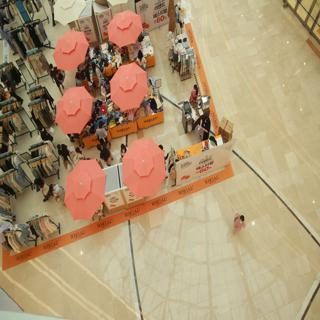person: (227, 208, 250, 239)
